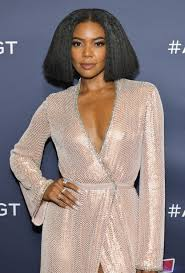black_female: (54, 7, 130, 78)
